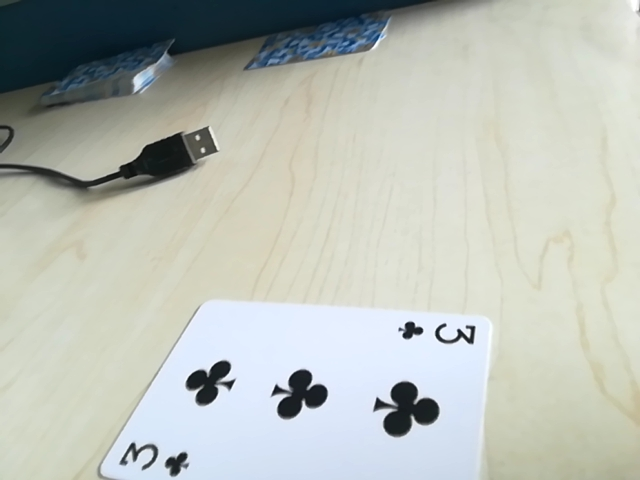mh 3: (108, 438, 192, 476), (396, 315, 481, 352)
